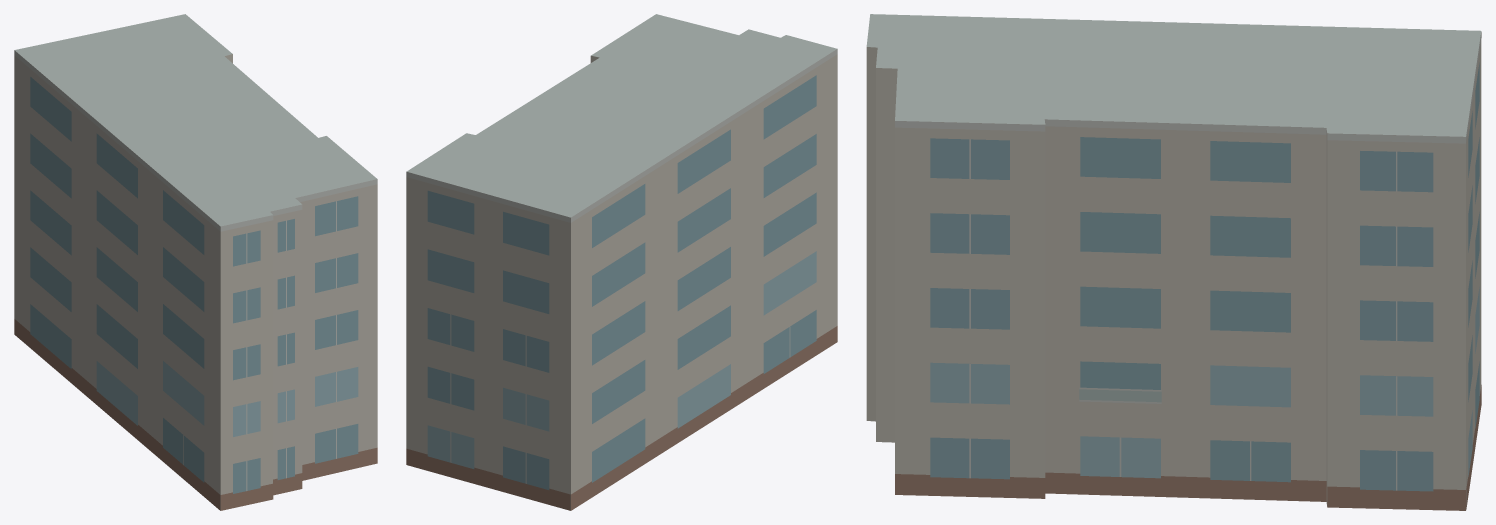
The model's file is survey-upis-32806723.glb.
3 views of the same model, side by side, from view 1: azimuth 30°, elevation 25°; view 2: azimuth 150°, elevation 25°; view 3: azimuth 270°, elevation 25° (orthographic). The views are drawn at different scales.
Parts seen in each view (by area): view 1: survey-upis-32806723.tmp; view 2: survey-upis-32806723.tmp; view 3: survey-upis-32806723.tmp.
Part boxes in pixels (left/top/right/bottom): survey-upis-32806723.tmp: left=14, top=14, right=377, bottom=510; survey-upis-32806723.tmp: left=406, top=14, right=837, bottom=510; survey-upis-32806723.tmp: left=866, top=14, right=1481, bottom=510.
Bounding box in the file's own units: 9.45 × 13.4 × 19.98.
